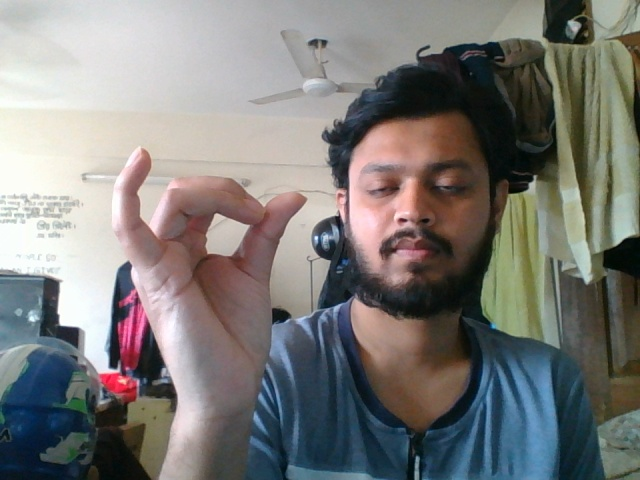oi: (103, 139, 314, 420)
